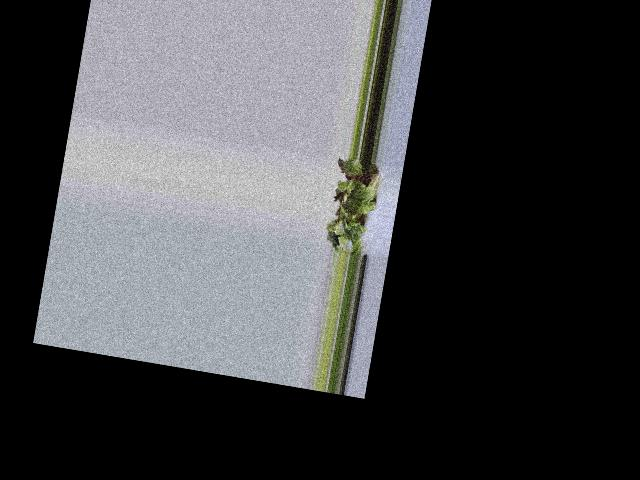lettuce: (327, 160, 376, 251)
